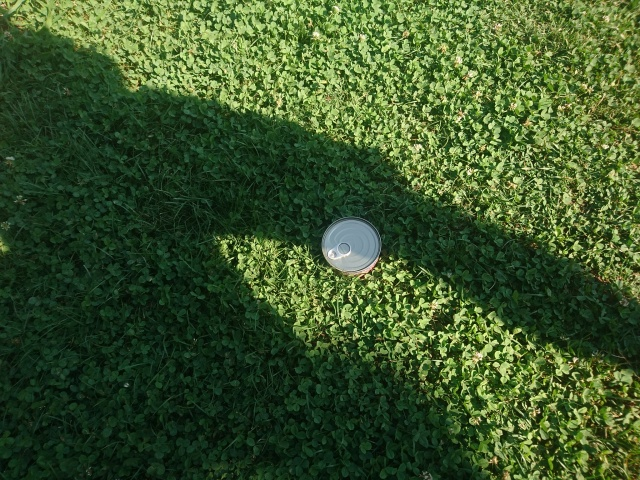Giana Tuna Salad Mexico 185g: (318, 214, 384, 281)
